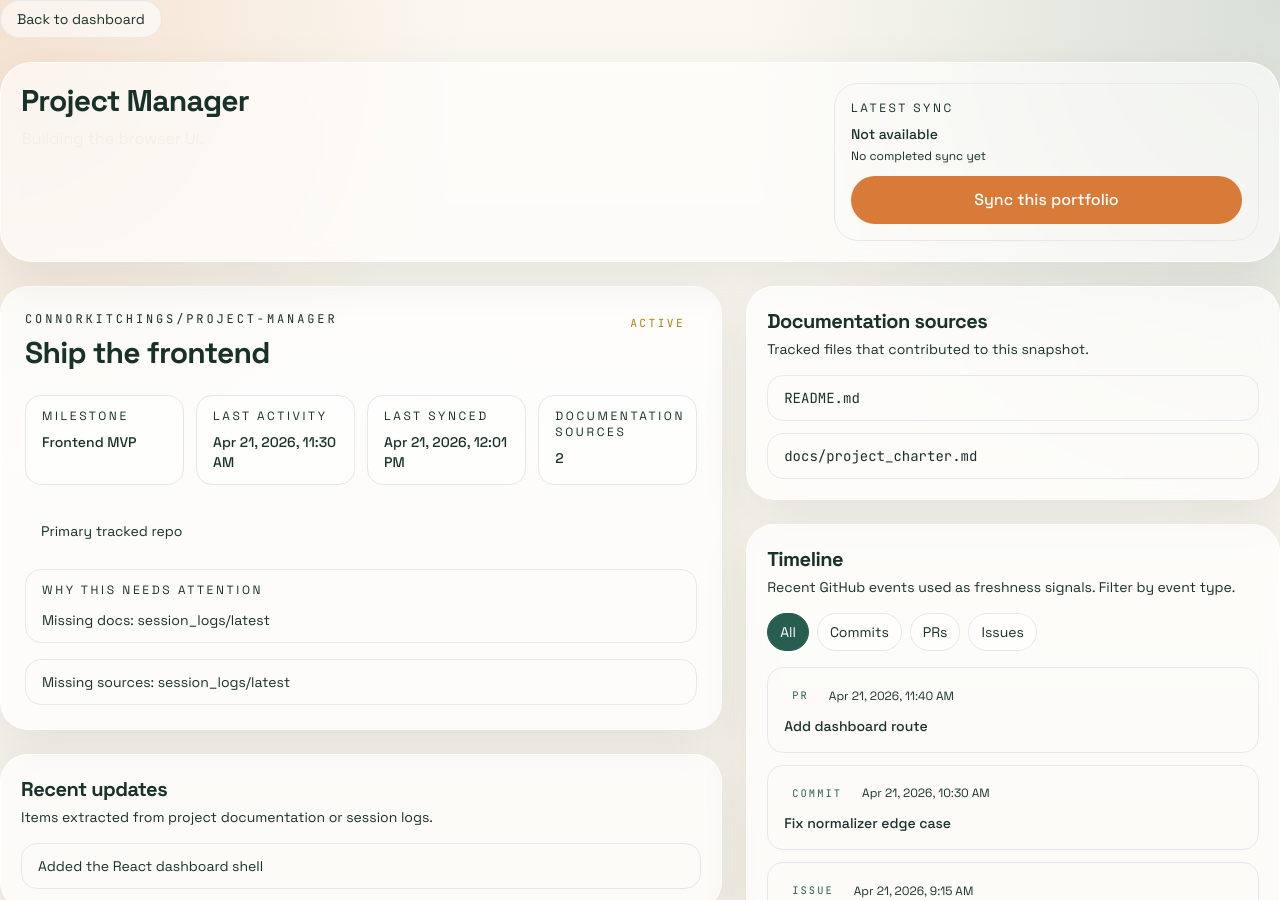
Test: RepoDetailPage › filters to issues correctly
Expected: the text "Add dashboard route" is shown, [784,717,928,735]
Click the button "Issues": (1003,632) [968,613,1037,651]
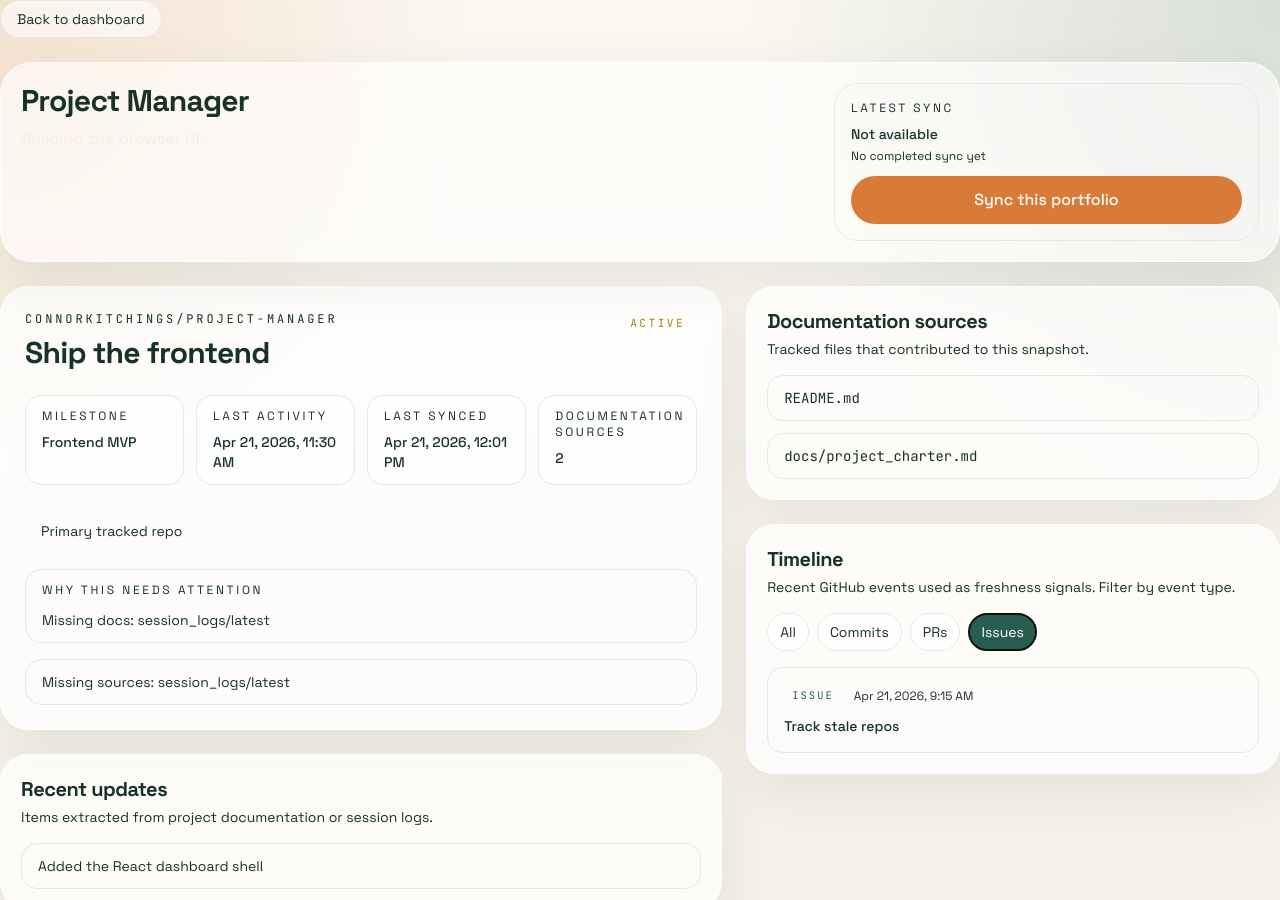
Expected: the text "Track stale repos" is shown, [784,717,899,735]
Expected: the link "Add dashboard route" is gone
Expected: the link "Fix normalizer edge case" is gone
